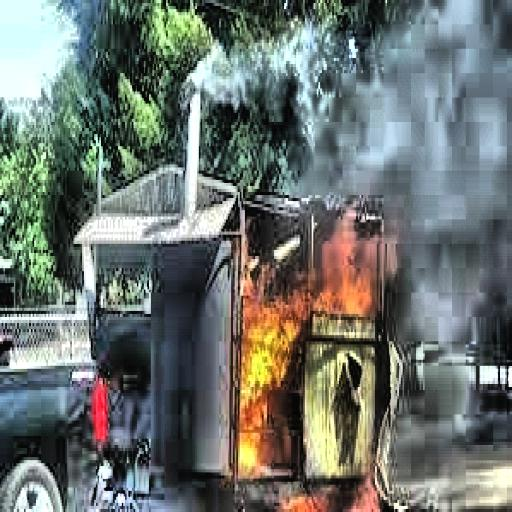fire: (231, 253, 315, 494), (316, 214, 396, 332)
